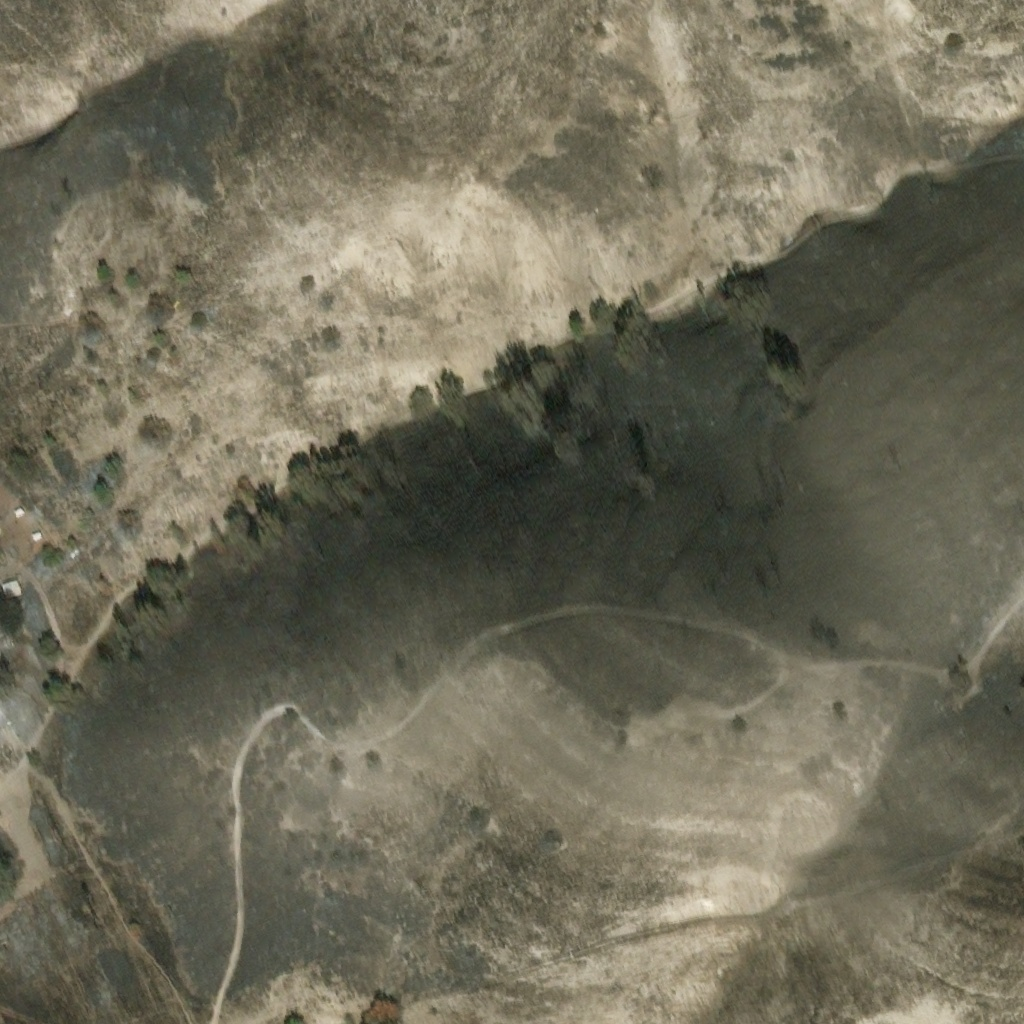0 no-damage: (0, 580, 23, 602), (11, 505, 24, 517), (30, 531, 42, 542)
